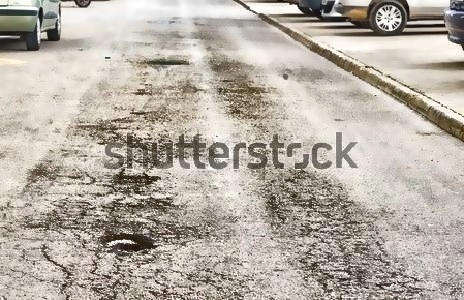pothole: (99, 231, 156, 254), (142, 56, 190, 67)
